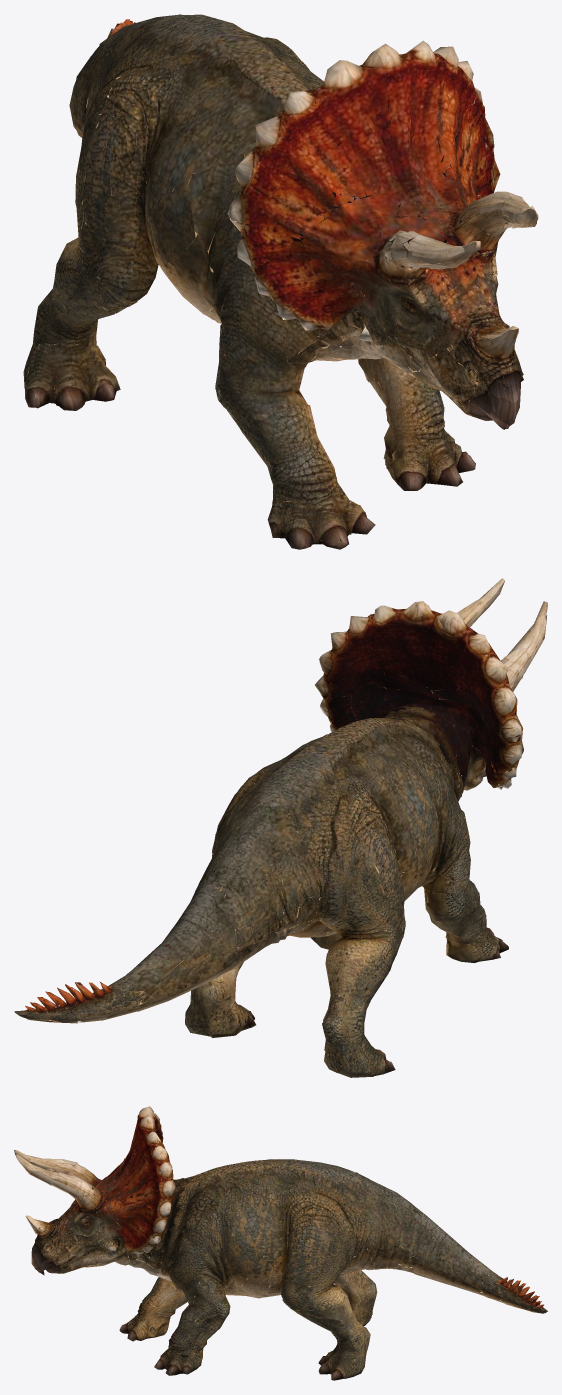
The model's file is triceratops.glb.
The picture shows the model from 3 angles, top to bottom: view 1: azimuth 30°, elevation 25°; view 2: azimuth 150°, elevation 25°; view 3: azimuth 270°, elevation 25°; orthographic projection. The views are drawn at different scales.
Parts seen in each view (by area): view 1: triceratops; view 2: triceratops; view 3: triceratops.
Boxes of the visible parts, x1=… form: triceratops: x1=23, y1=14, x2=538, y2=549; triceratops: x1=14, y1=578, x2=547, y2=1077; triceratops: x1=14, y1=1106, x2=547, y2=1380.
Size of the model in its own units: 2.96 by 4.09 by 8.49.
Materials: 1 (1 with a texture image).
